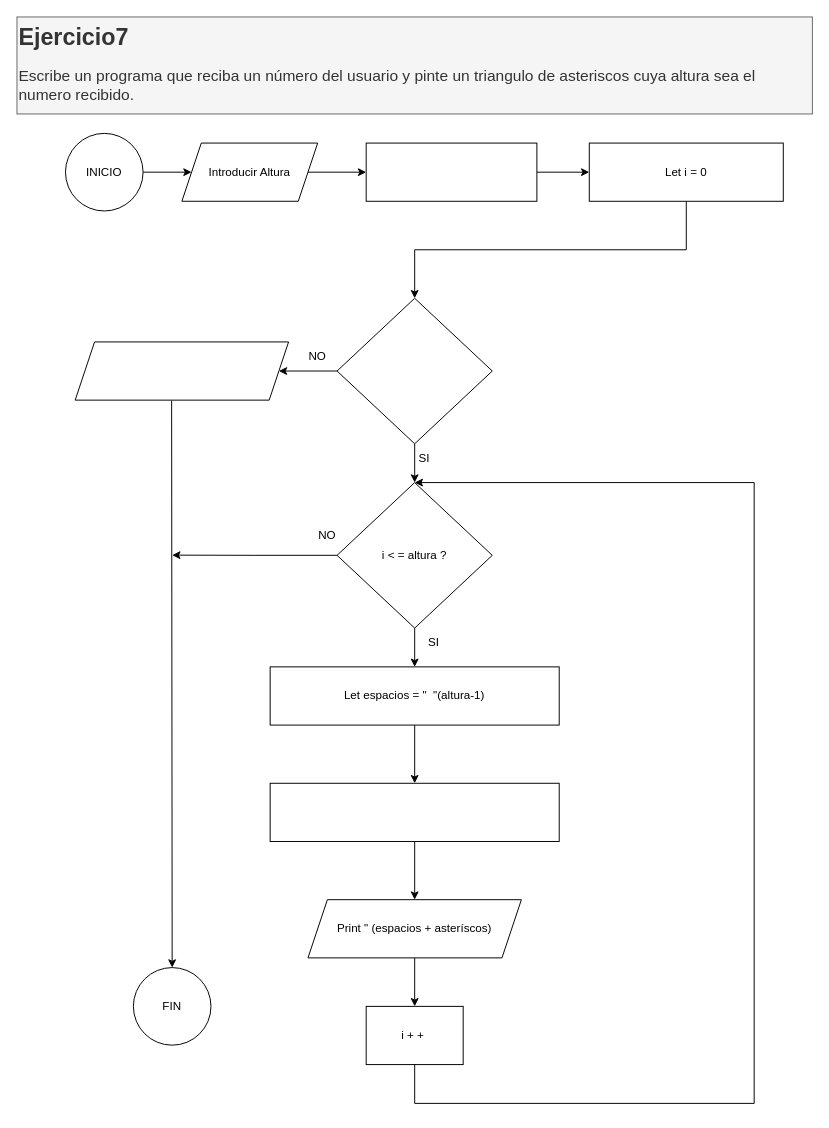
The diagram is 829 pixels wide and 1128 high, and some of its shapes have lost their labels. Each missing label, with the centre of its shape:
Es número válido?: (414,370)
Let altura = parseInt(numero): (451,171)
Let asteríscos = " * " (2*i -1): (414,811)
Print " Introduce número vállido": (181,370)
